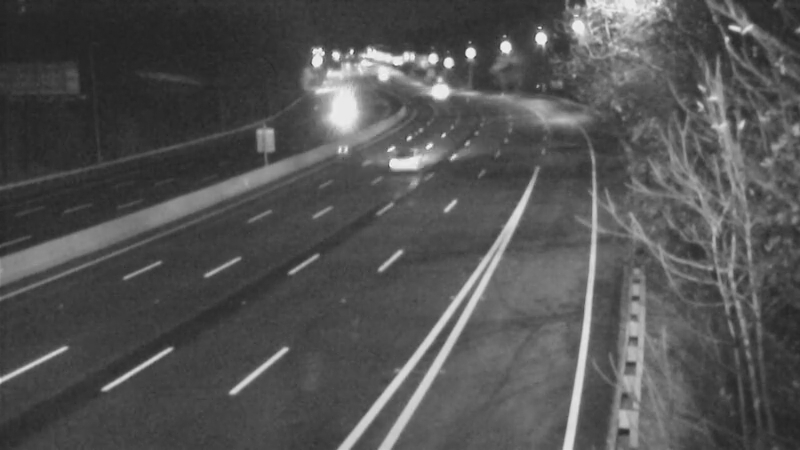vehicle: (371, 119, 451, 199), (356, 53, 406, 103), (407, 67, 457, 117), (317, 86, 367, 136)
